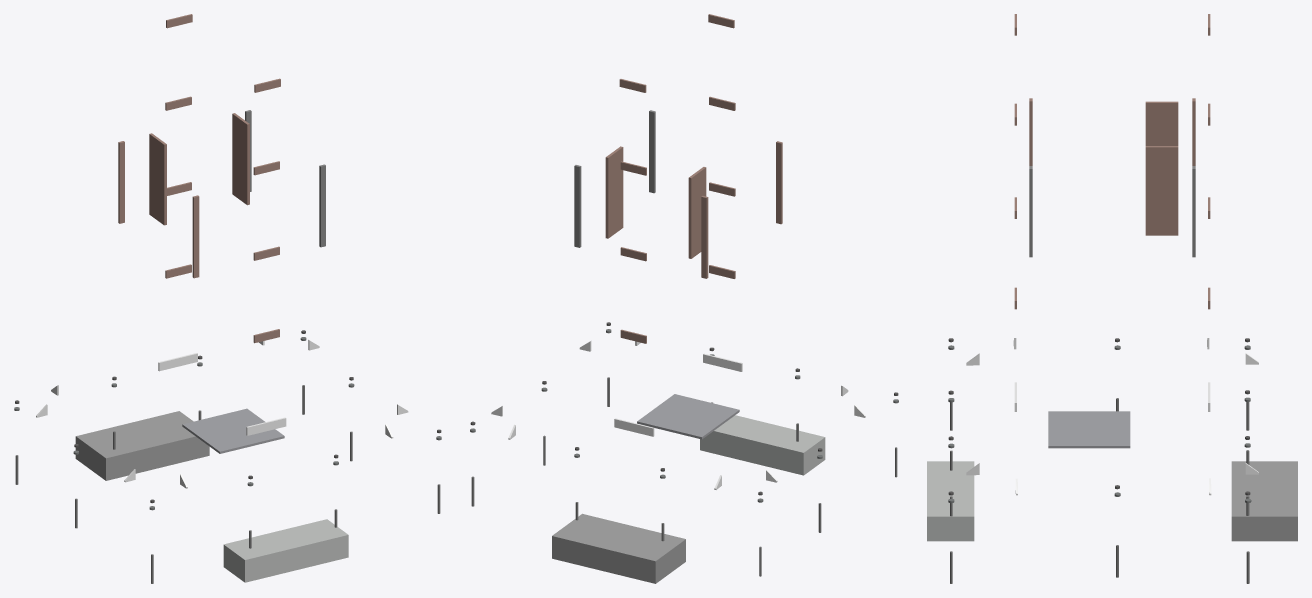
File: maqueta-MA05.glb
The picture shows the model from 3 angles, left to right: view 1: azimuth 30°, elevation 25°; view 2: azimuth 150°, elevation 25°; view 3: azimuth 270°, elevation 25°; orthographic projection. The views are drawn at different scales.
Parts seen in each view (by area): view 1: 29_____011.obj, geometry_7, geometry_8, geometry_0, 4______011.obj, 3______011.obj, 32_____011.obj; view 2: geometry_7, 29_____011.obj, geometry_8, geometry_0, 4______011.obj, 32_____011.obj, 3______011.obj; view 3: 29_____011.obj, geometry_7, geometry_8, geometry_0, 4______011.obj, 3______011.obj, 32_____011.obj.
Boxes of the visible parts, x1,y1,x2,y2 form: 29_____011.obj: (118,14,280,343); geometry_7: (75,411,209,480); geometry_8: (223,519,348,582); geometry_0: (182,408,284,453); 4______011.obj: (36,340,408,488); 3______011.obj: (15,385,440,583); 32_____011.obj: (245,110,325,247); geometry_7: (552,513,685,583); 29_____011.obj: (605,14,782,343); geometry_8: (700,415,825,475); geometry_0: (637,394,739,439); 4______011.obj: (491,341,865,489); 32_____011.obj: (574,110,655,247); 3______011.obj: (471,377,897,576); 29_____011.obj: (1014,14,1210,309); geometry_7: (1231,461,1297,541); geometry_8: (927,461,974,541); geometry_0: (1048,411,1130,448); 4______011.obj: (966,338,1258,495); 3______011.obj: (950,398,1249,583); 32_____011.obj: (1029,166,1195,257).
Bounding box in the file's own units: 0.6738 × 1.01 × 0.6774.
